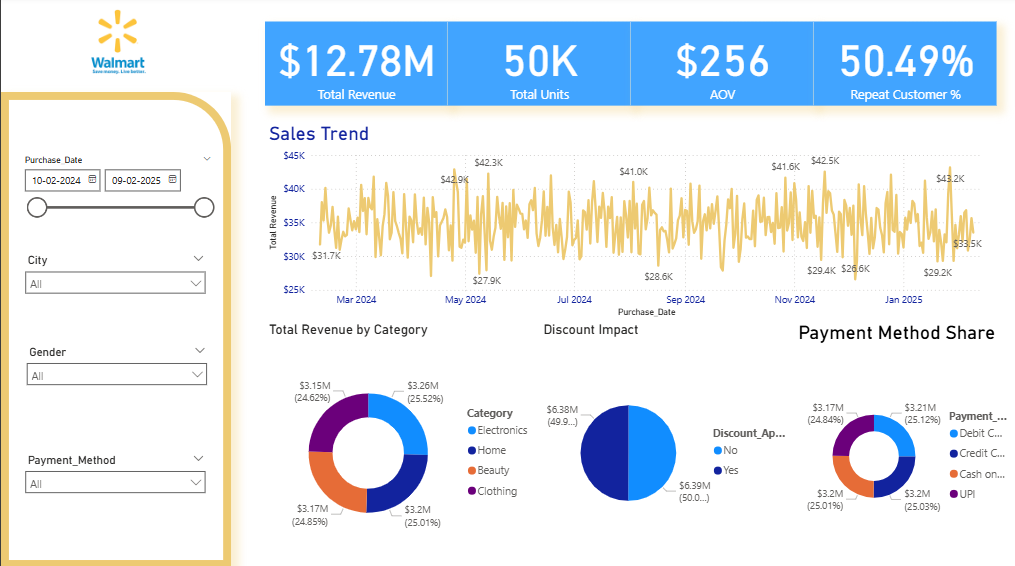

This screenshot's page, from the dashboard's own definition file:
{"tool":"powerbi","page":{"name":"Page 1","canvas":[1280,720],"ordinal":0},"visuals":[{"type":"image","box":[0,0,289.9,120.9],"z":0},{"type":"shape","box":[0,120.9,289.9,599.6],"z":1000},{"type":"slicer","fields":{"Values":["dim_date.Purchase_Date"]},"box":[16.6,195.5,260.1,89.4],"z":2000},{"type":"slicer","fields":{"Values":["dim_city.City"]},"box":[21.5,319.7,246.8,79.5],"z":3000},{"type":"slicer","fields":{"Values":["fact_sales.Gender"]},"box":[23.2,434,246.8,79.5],"z":4000},{"type":"slicer","fields":{"Values":["dim_payment.Payment_Method"]},"box":[21.5,571.5,246.8,79.5],"z":5000},{"type":"card","fields":{"Values":["fact_sales.Total Revenue"]},"box":[333,31.5,230.3,106],"z":6000},{"type":"card","fields":{"Values":["fact_sales.Total Units"]},"box":[563.2,31.5,230.3,106],"z":7000},{"type":"card","fields":{"Values":["fact_sales.AOV"]},"box":[793.5,31.5,230.3,106],"z":8000},{"type":"card","fields":{"Values":["fact_sales.Repeat Customer %"]},"box":[1023.7,31.5,230.3,106],"z":9000},{"type":"lineChart","title":"Sales Trend","fields":{"Category":["fact_sales.Purchase_Date"],"Y":["fact_sales.Total Revenue"]},"box":[333,159,921,250.1],"z":10000},{"type":"donutChart","fields":{"Category":["fact_sales.Category"],"Y":["fact_sales.Total Revenue"]},"box":[333,409.2,344.5,311.4],"z":11000},{"type":"donutChart","title":"Payment Method Share","fields":{"Category":["dim_payment.Payment_Method"],"Y":["fact_sales.Total Revenue"]},"box":[998.9,409.2,281.6,311.4],"z":12000},{"type":"pieChart","title":"Discount Impact","fields":{"Category":["fact_sales.Discount_Applied"],"Y":["fact_sales.Total Revenue"]},"box":[677.5,409.2,321.4,311.4],"z":13000}]}

Visuals, with their boxes in screenshot pixels (x1, y1, x2, y2), scaled from the page's 1280x720 canvas onto the 1015x566 screenshot:
image: 0, 0, 230, 95
shape: 0, 95, 230, 565
slicer - dim_date.Purchase_Date: 13, 154, 219, 224
slicer - dim_city.City: 17, 251, 213, 314
slicer - fact_sales.Gender: 18, 341, 214, 404
slicer - dim_payment.Payment_Method: 17, 449, 213, 512
card - fact_sales.Total Revenue: 264, 25, 447, 108
card - fact_sales.Total Units: 447, 25, 629, 108
card - fact_sales.AOV: 629, 25, 812, 108
card - fact_sales.Repeat Customer %: 812, 25, 994, 108
"Sales Trend" lineChart: 264, 125, 994, 322
donutChart - fact_sales.Category x fact_sales.Total Revenue: 264, 322, 537, 565
"Payment Method Share" donutChart: 792, 322, 1014, 565
"Discount Impact" pieChart: 537, 322, 792, 565
